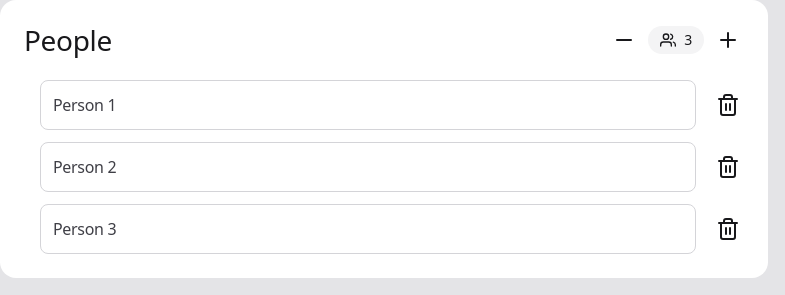
Test case: <People /> › should allow the user to decrease the amount of people
Click the button named "decrease" at (624, 40), box [608, 24, 640, 56]
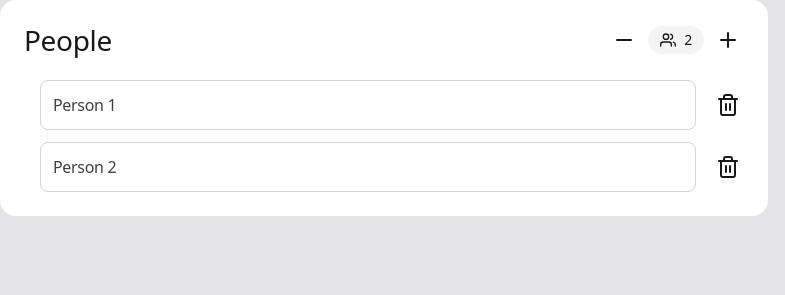
Expected: the number of fields is 2, [40, 80, 696, 130]; [40, 142, 696, 192]
Click the button named "decrease" at (624, 40), box [608, 24, 640, 56]
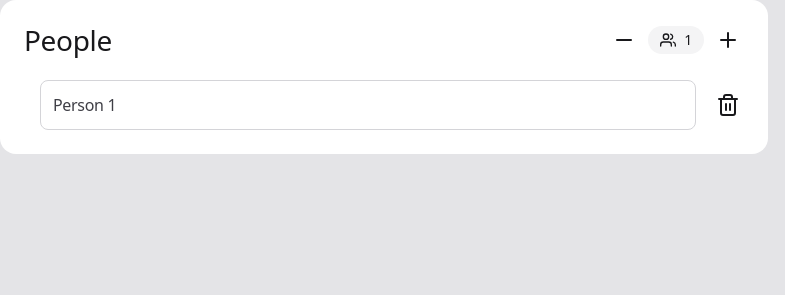
Expected: the number of fields is 1, [40, 80, 696, 130]
